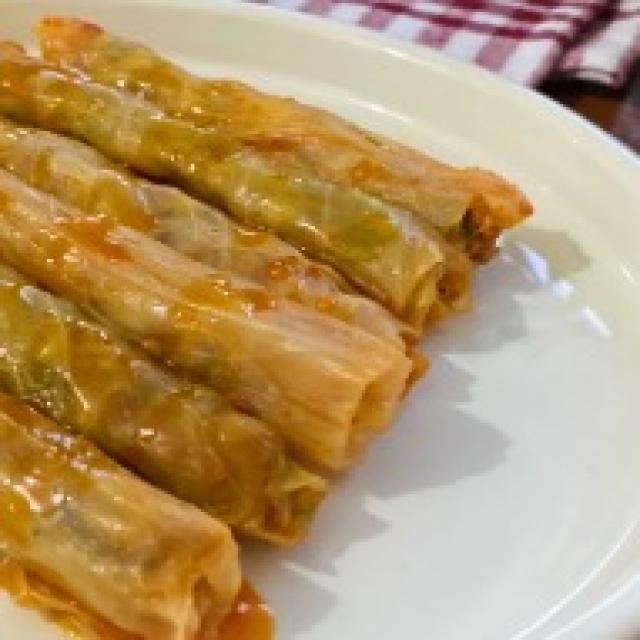ana_yemek: (0, 9, 533, 637)
